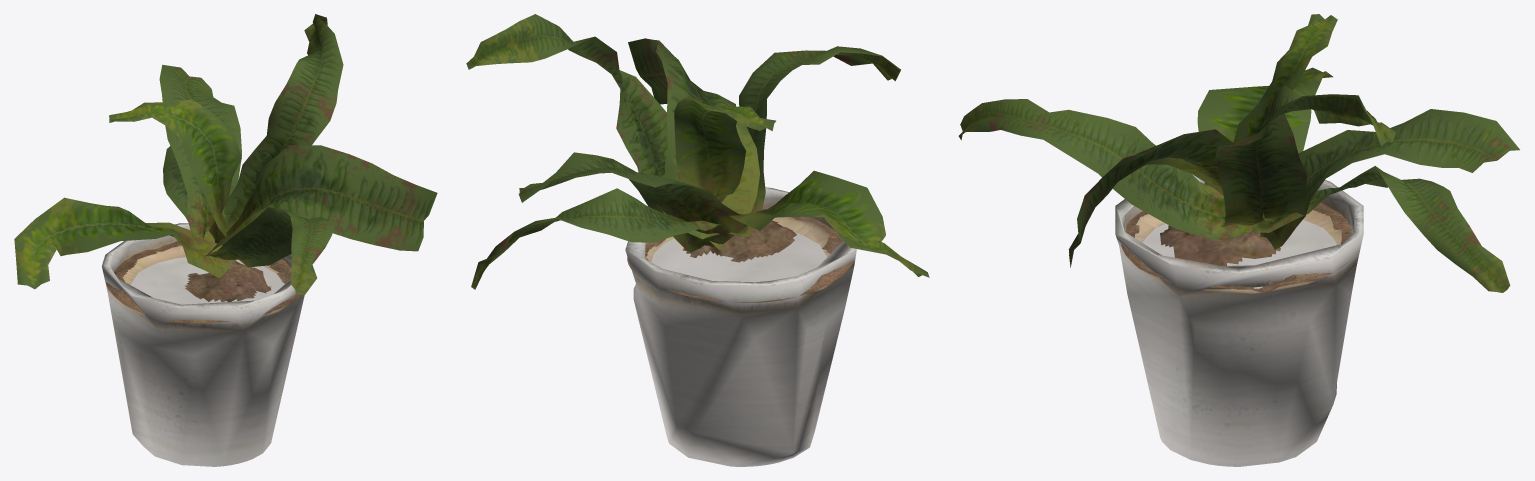
File: doniczka_paproc_1.glb
The picture shows the model from 3 angles, left to right: view 1: azimuth 30°, elevation 25°; view 2: azimuth 150°, elevation 25°; view 3: azimuth 270°, elevation 25°; orthographic projection. The views are drawn at different scales.
Parts seen in each view (by area): view 1: roslina, doniczka, ziemia; view 2: roslina, doniczka, ziemia; view 3: roslina, doniczka, ziemia.
Part boxes in pixels (x1,y1,x2,y2): roslina: (14,14,437,295); doniczka: (102,223,304,466); ziemia: (105,241,300,323); roslina: (466,14,929,289); doniczka: (625,187,856,466); ziemia: (627,209,853,302); roslina: (958,14,1519,292); doniczka: (1115,174,1363,466); ziemia: (1120,203,1352,292).
Bounding box in the file's own units: 0.5519 × 0.5213 × 0.6134.
2 materials, 2 textured.
